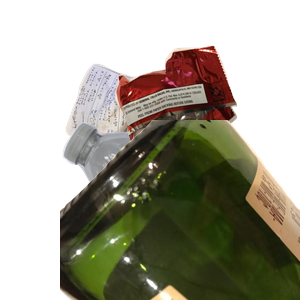glass: (60, 120, 300, 300)
paper: (63, 61, 242, 206)
plastic: (60, 120, 300, 300)
trash: (113, 43, 300, 181)
